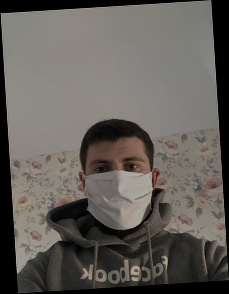with_mask: (84, 150, 154, 230)
